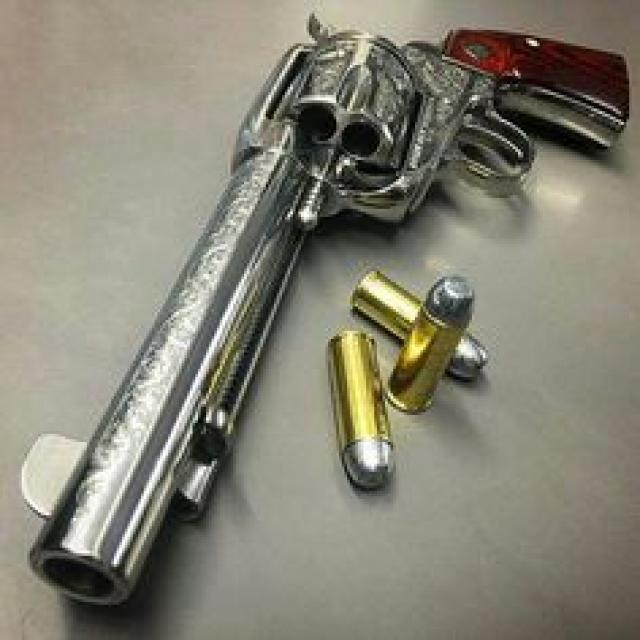revolver: (16, 12, 630, 612)
